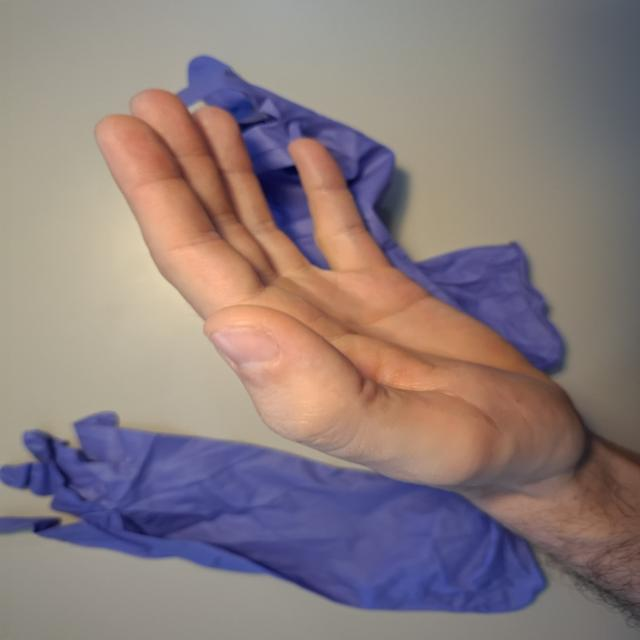glove_off: (91, 91, 597, 502)
